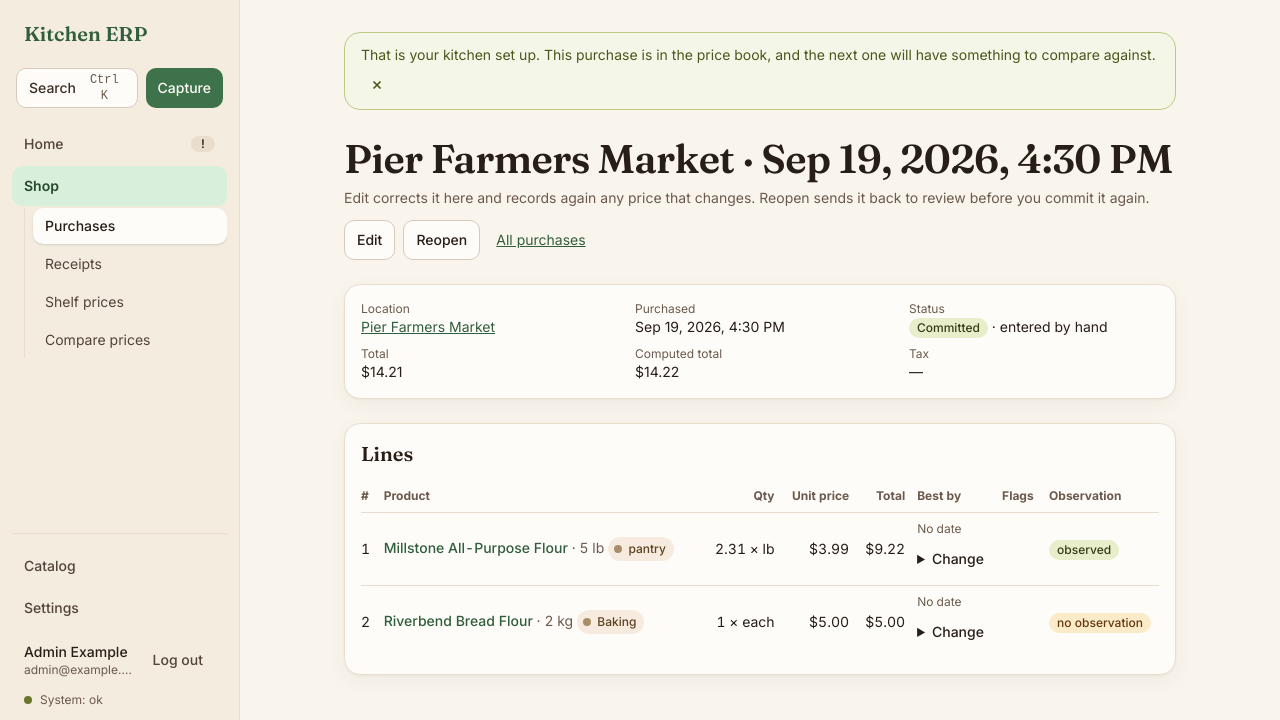
first-purchase acknowledgement › does not return when a reopened purchase is committed again
Expected: the text "That is your kitchen set up" is shown, [361, 46, 1156, 63]
Step 1. Click the button "Reopen" → point(442, 240), box [403, 220, 480, 260]
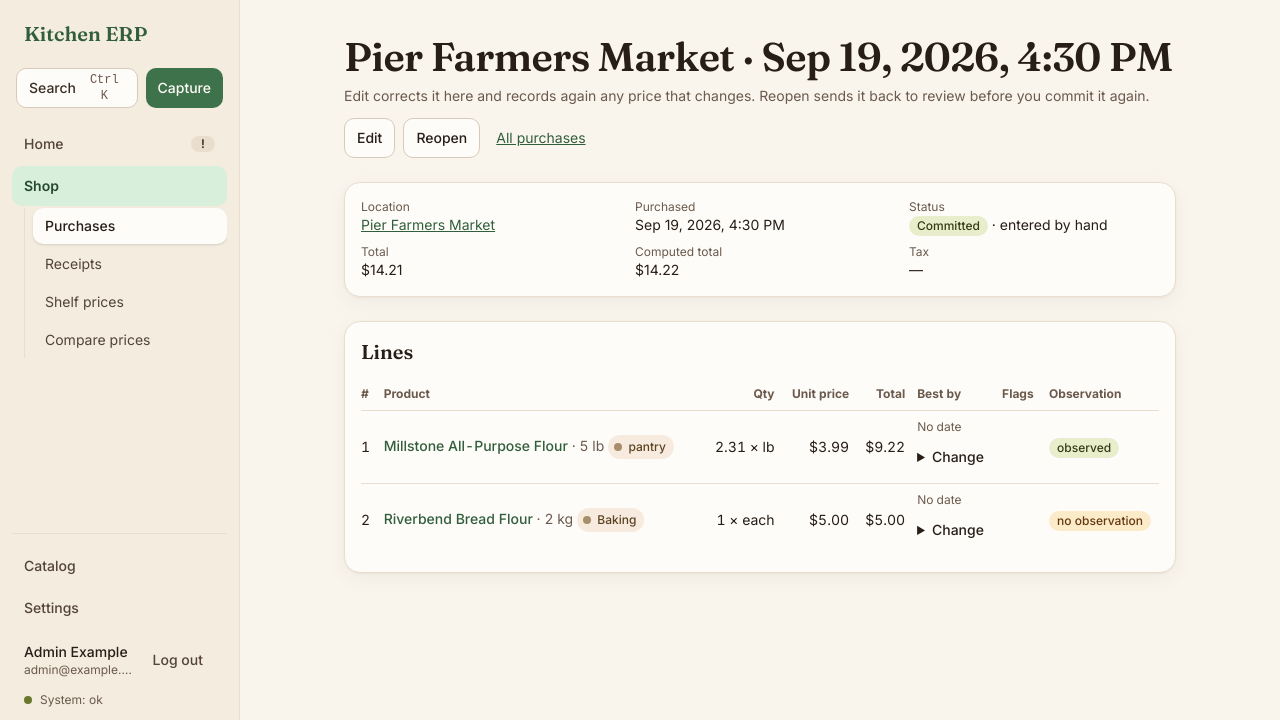
Expected: the button "Reopen" is shown, [403, 118, 480, 158]
Expected: the text "That is your kitchen set up" is gone
